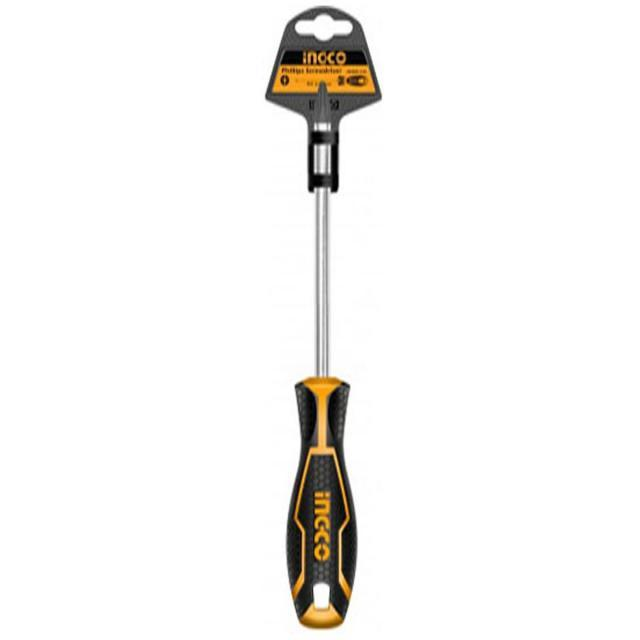screwdriver: (284, 81, 359, 631)
